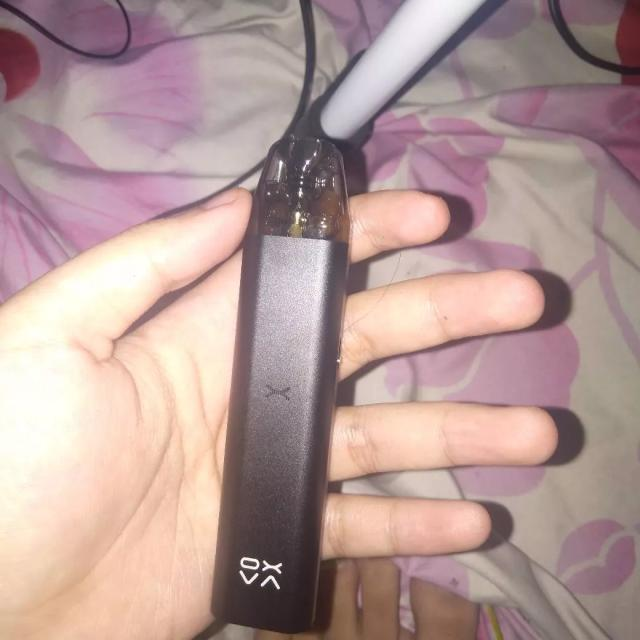Hazard: (205, 134, 352, 631)
